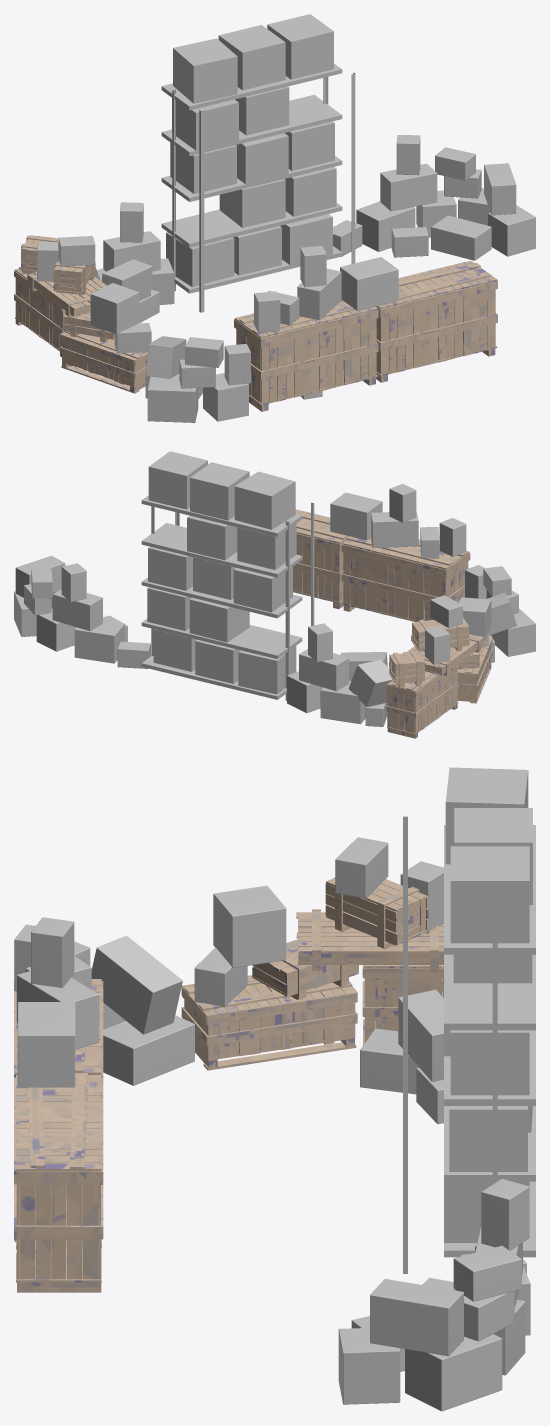
The model's file is Cajas.fbx.
3 views of the same model, one above another, from view 1: azimuth 30°, elevation 25°; view 2: azimuth 150°, elevation 25°; view 3: azimuth 270°, elevation 25° (orthographic). The views are drawn at different scales.
Visible parts, largest first — view 1: Material2, Cube.014, Cube.011, Material2.001, Cube.109, Material2.002, 290x290x400_2.002, Cube.100, 430x210x270_3, 290x290x400_2.001, 430x210x270_2, 290x290x290_2.001 (+31 smaller); view 2: Material2, Cube.011, Material2.001, Cube.014, Cube.100, 290x290x400_2.002, 290x290x400_1, 430x210x270_2, Material2.002, 430x210x270_2.001, 430x210x270_2.002, 290x290x290_1.002 (+26 smaller); view 3: Material2, Cube.014, Cube.109, Material2.001, 430x210x270_1, 430x210x270_1.002, 290x290x400_2, 290x290x290_2.001, Cube.069, 290x290x400_2.002, 430x210x270_3.002, Cube.081 (+18 smaller).
Part boxes in pixels (x1=…): Material2: x1=166, y1=14, x2=336, y2=286; Cube.014: x1=376, y1=260, x2=497, y2=382; Cube.011: x1=234, y1=300, x2=378, y2=411; Material2.001: x1=161, y1=63, x2=342, y2=293; Cube.109: x1=60, y1=331, x2=147, y2=393; Material2.002: x1=172, y1=72, x2=355, y2=312; 290x290x400_2.002: x1=340, y1=257, x2=398, y2=310; Cube.100: x1=14, y1=267, x2=65, y2=357; 430x210x270_3: x1=431, y1=215, x2=491, y2=260; 290x290x400_2.001: x1=147, y1=376, x2=198, y2=422; 430x210x270_2: x1=380, y1=163, x2=437, y2=211; 290x290x290_2.001: x1=90, y1=283, x2=139, y2=334; Material2: x1=147, y1=451, x2=296, y2=694; Cube.011: x1=341, y1=536, x2=470, y2=621; Material2.001: x1=141, y1=495, x2=302, y2=699; Cube.014: x1=293, y1=509, x2=348, y2=609; Cube.100: x1=386, y1=663, x2=458, y2=738; 290x290x400_2.002: x1=330, y1=492, x2=382, y2=540; 290x290x400_1: x1=74, y1=620, x2=124, y2=663; 430x210x270_2: x1=52, y1=589, x2=102, y2=630; Material2.002: x1=151, y1=502, x2=314, y2=700; 430x210x270_2.001: x1=299, y1=649, x2=348, y2=691; 430x210x270_2.002: x1=371, y1=511, x2=418, y2=547; 290x290x290_1.002: x1=348, y1=659, x2=392, y2=706; Material2: x1=444, y1=767, x2=532, y2=1242; Cube.014: x1=14, y1=1073, x2=103, y2=1292; Cube.109: x1=181, y1=975, x2=357, y2=1070; Material2.001: x1=444, y1=825, x2=535, y2=1257; 430x210x270_1: x1=370, y1=1279, x2=463, y2=1356; 430x210x270_1.002: x1=91, y1=935, x2=182, y2=1034; 290x290x400_2: x1=405, y1=1334, x2=502, y2=1411; 290x290x290_2.001: x1=213, y1=885, x2=286, y2=967; Cube.069: x1=296, y1=909, x2=443, y2=971; 290x290x400_2.002: x1=17, y1=1002, x2=75, y2=1087; 430x210x270_3.002: x1=103, y1=1015, x2=194, y2=1085; Cube.081: x1=325, y1=877, x2=428, y2=949.
Size of the model in its own units: 4696 by 2163 by 2634.
